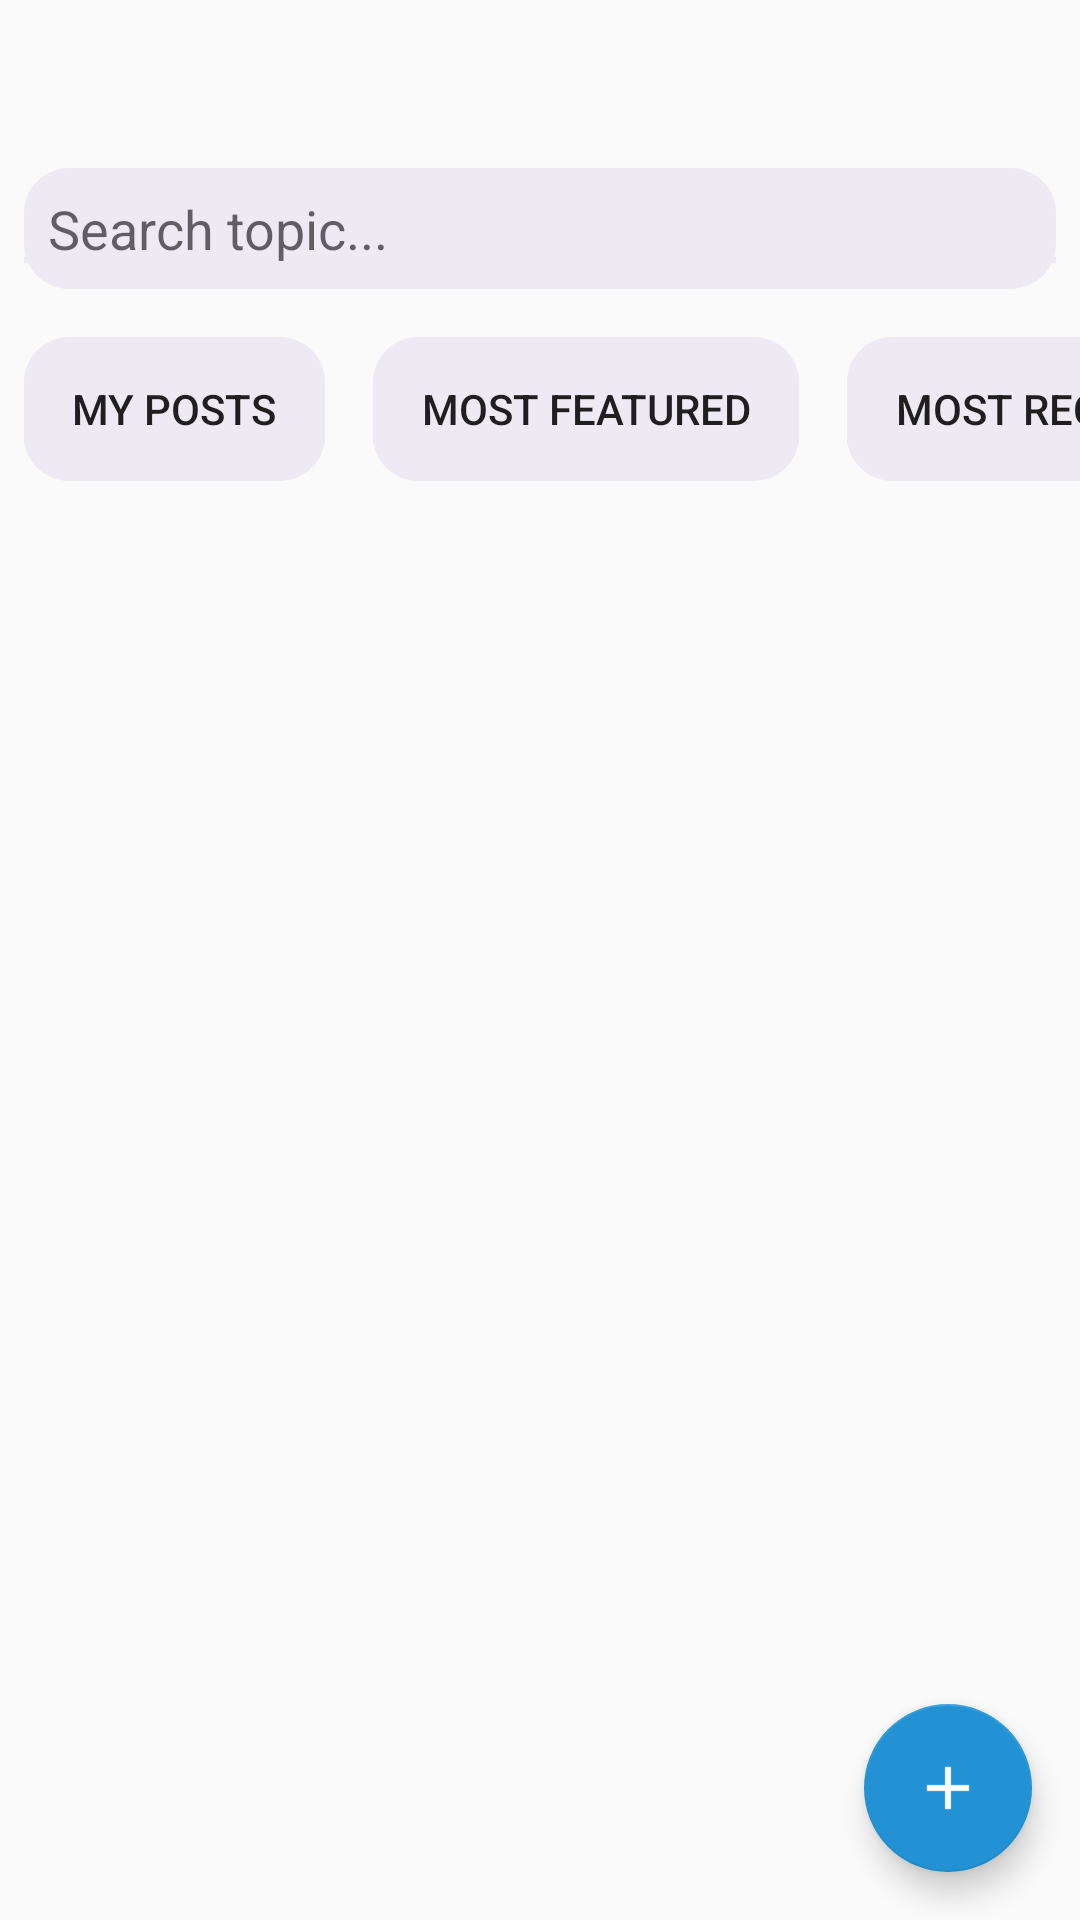

Point at icon controls on the screen. Image size 1080 × 1920, points as (x,y).
Add resource: (948,1788)
